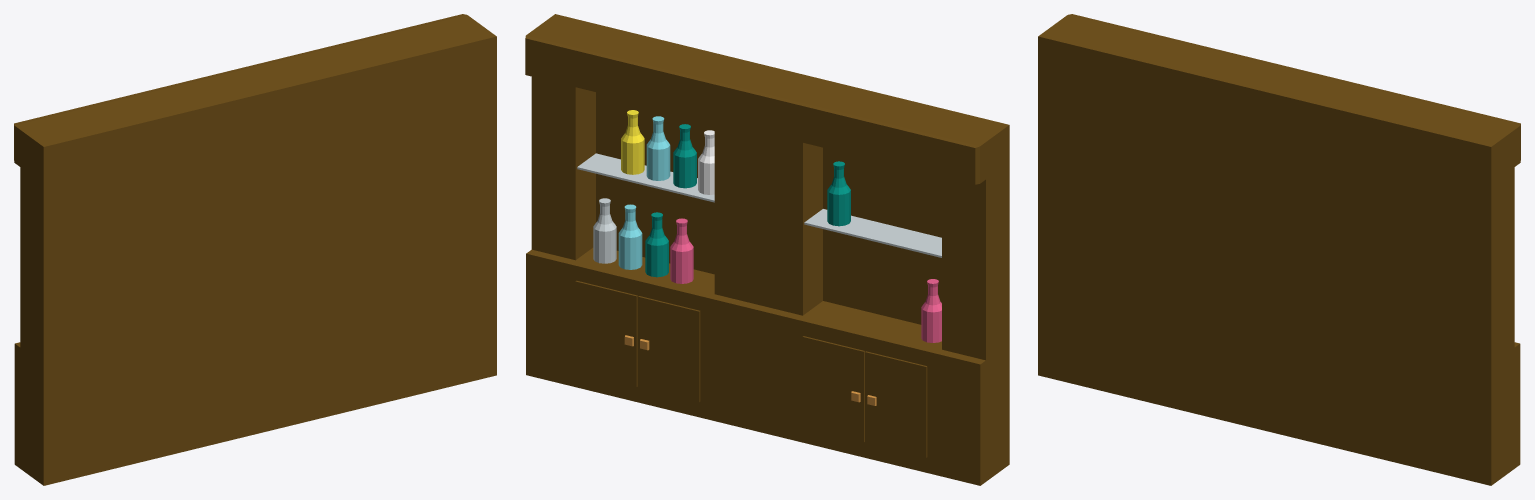
The model's file is barshelf.glb.
The picture shows the model from 3 angles, left to right: view 1: azimuth 30°, elevation 25°; view 2: azimuth 150°, elevation 25°; view 3: azimuth 330°, elevation 25°; orthographic projection.
Visible parts, largest first — view 1: group7785952, group1345833870, group1428255239, group17861840, group27870691, group470760230; view 2: group470760230, group587117627, group7785952, group1428255239, group17861840, group27870691, group1230848087, group1341568179, group1345833870, group8256022, group1215671963, group1155455022 (+14 smaller); view 3: group1345833870, group7785952, group17861840, group1428255239, group1341568179, group587117627.
Boxes of the visible parts, <box> form: group7785952: <box>40,89,270,485</box>; group1345833870: <box>267,34,496,430</box>; group1428255239: <box>14,68,266,181</box>; group17861840: <box>239,14,492,89</box>; group27870691: <box>20,167,40,361</box>; group470760230: <box>14,342,40,483</box>; group470760230: <box>753,301,1006,485</box>; group587117627: <box>526,248,758,430</box>; group7785952: <box>780,69,1009,466</box>; group1428255239: <box>750,71,1006,184</box>; group17861840: <box>525,16,778,129</box>; group27870691: <box>942,165,1006,360</box>; group1230848087: <box>758,132,822,315</box>; group1341568179: <box>531,76,595,260</box>; group1345833870: <box>552,14,781,274</box>; group8256022: <box>714,121,758,304</box>; group1215671963: <box>865,351,927,457</box>; group1155455022: <box>802,336,864,442</box>; group1345833870: <box>1264,89,1494,485</box>; group7785952: <box>1038,34,1267,430</box>; group17861840: <box>1268,69,1520,181</box>; group1428255239: <box>1041,14,1296,89</box>; group1341568179: <box>1494,167,1514,361</box>; group587117627: <box>1494,342,1520,483</box>.
Size of the model in its own units: 3.58 by 2.56 by 0.4378.
